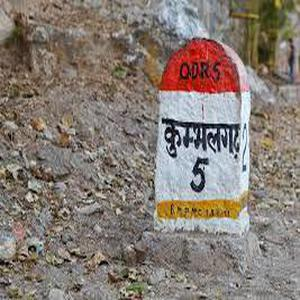kmstone: (157, 34, 244, 239)
